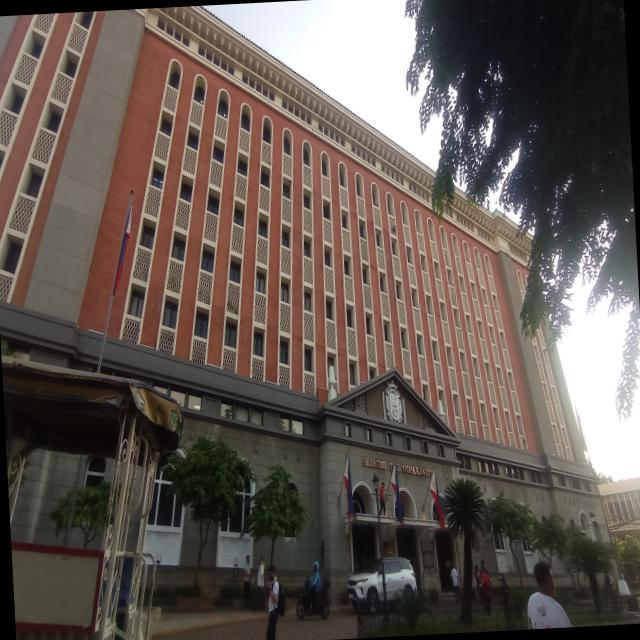Palacio de Gobernador: (0, 6, 630, 640)
